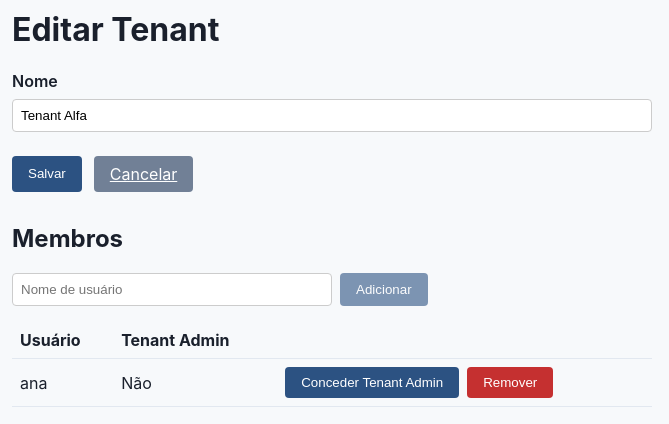
Test case: TenantFormView member management › disables the Adicionar button until a match is selected
Expected: the submit button is disabled, [340, 273, 428, 306]
In the field with placeholder "Nome de usuário": (172, 289) [12, 273, 332, 306], type "ninguem"
Wait 300 ms
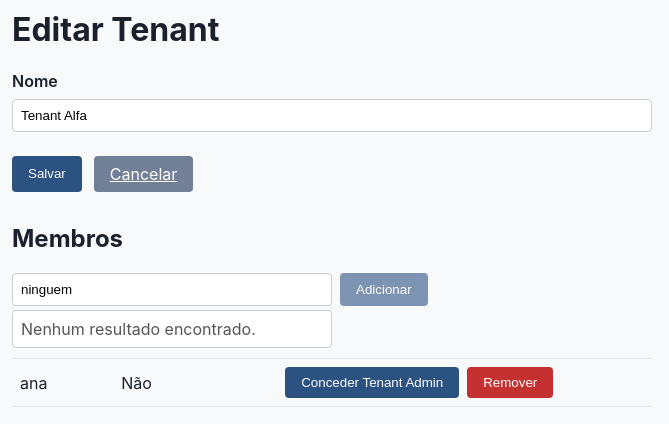
Expected: the submit button is disabled, [340, 273, 428, 306]
Now the text "Nenhum resultado encontrado." is shown, box [21, 319, 256, 339]
